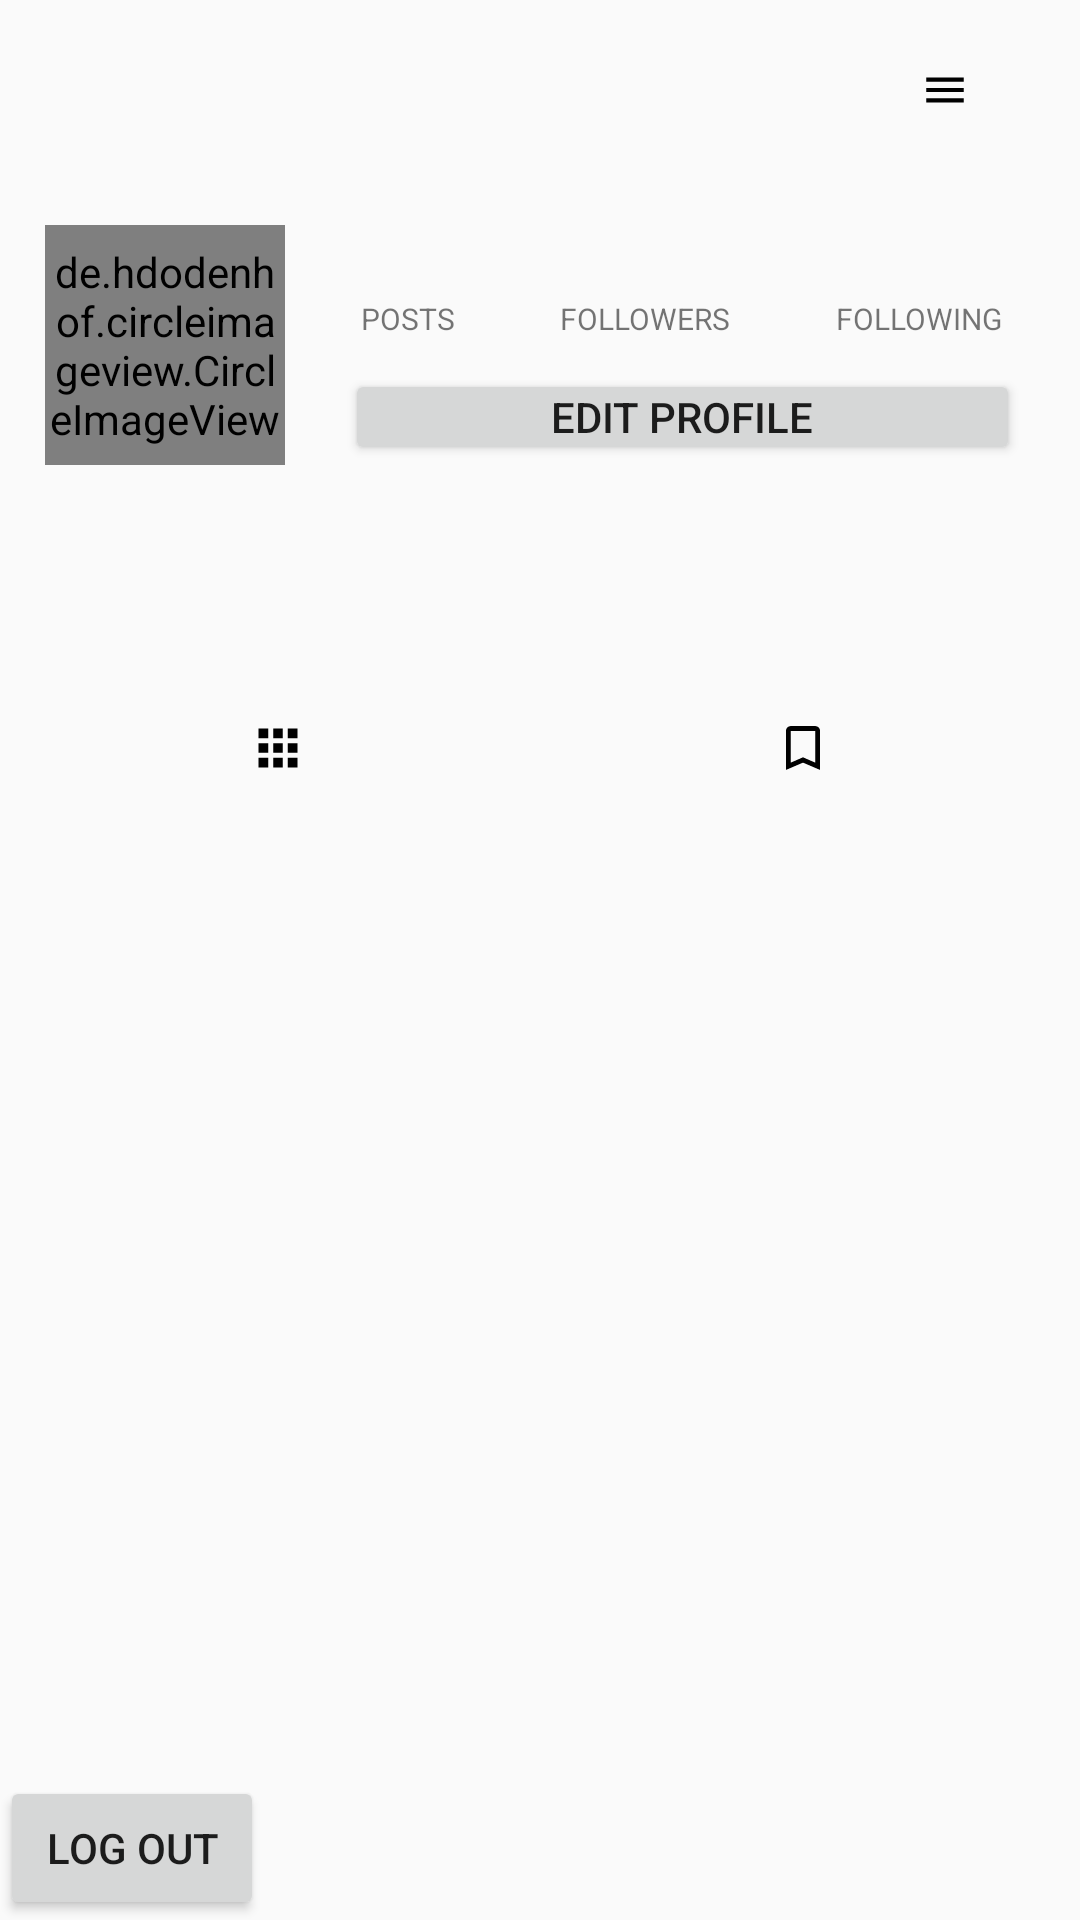

Icon click points for this 1080×1920 phone screenshot, format (x=x, y=y):
options: (x=945, y=90)
save: (x=803, y=748)
